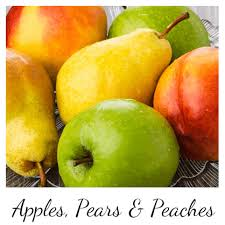apple: (60, 24, 167, 125), (64, 106, 181, 198), (5, 49, 70, 174), (153, 52, 219, 160), (7, 6, 101, 68), (110, 12, 208, 59)
